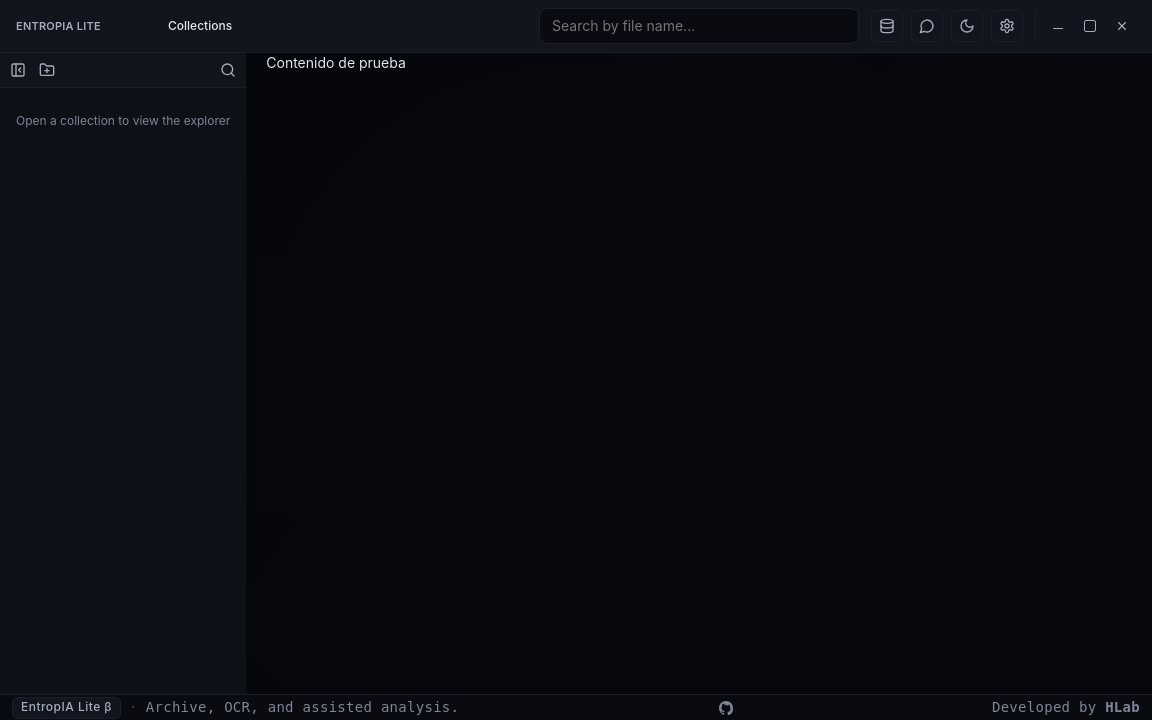
Test: AppShell › reacts to locale changes in footer and sidebar copy
Check: the text "Archive, OCR, and assisted analysis." is shown, box [146,697,459,718]
Check: the text "Developed by" is shown, box [992,699,1105,715]
Step 1. Click the button named "Filter collections" → [228, 70], box [214,56,242,84]
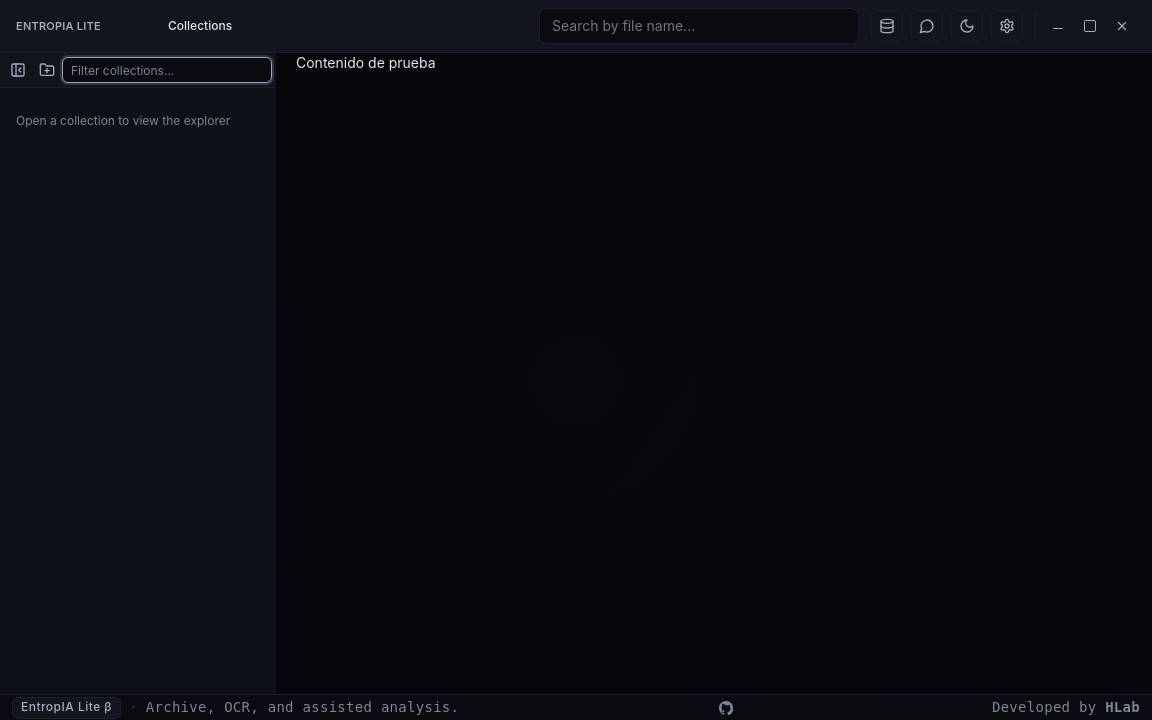
Check: the field with placeholder "Filter collections..." is shown, box [62,57,272,83]
